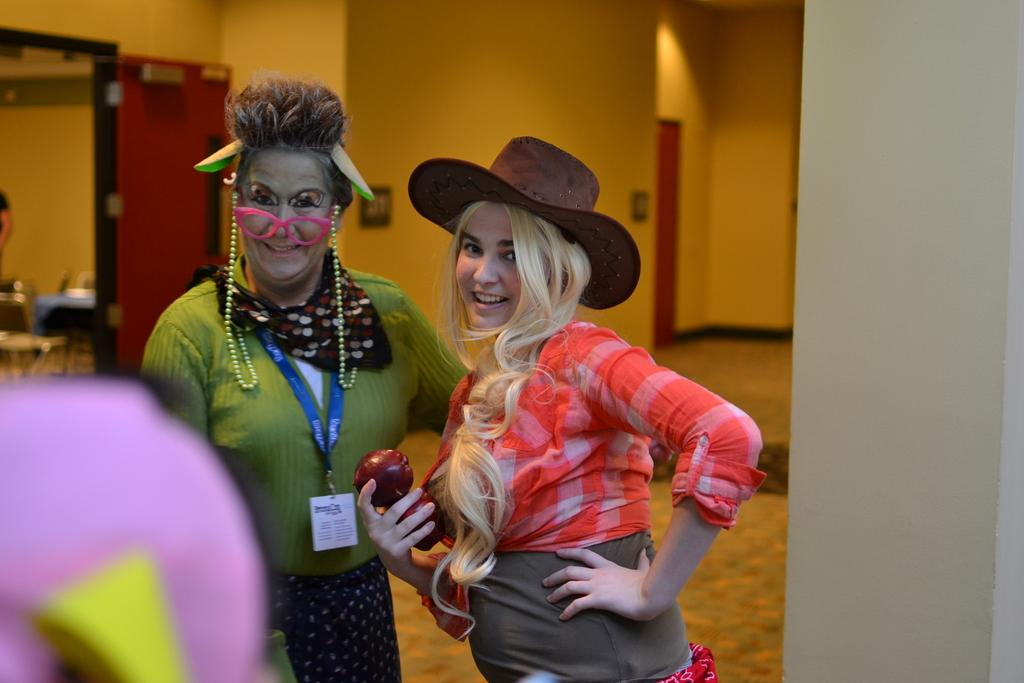Hat: (406, 137, 642, 313)
